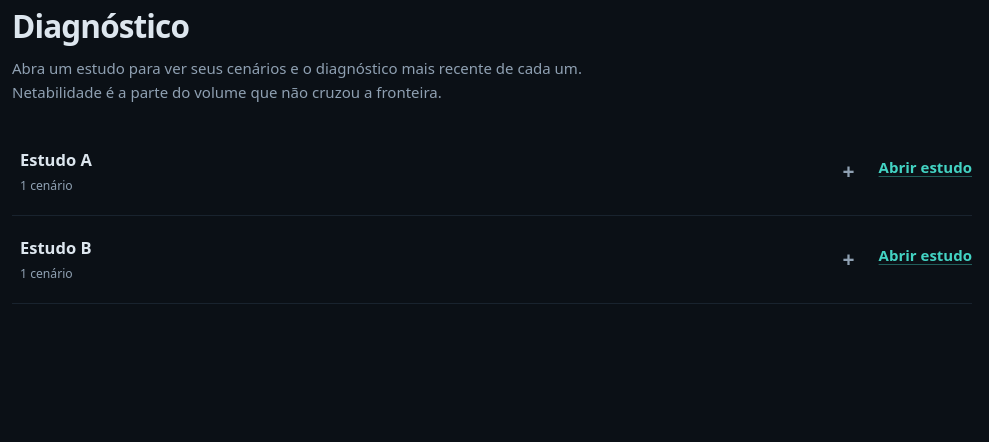
Scenario: DiagnosticsHubPage › só monta os cenários do estudo que o usuário expandiu
Click the button with aria-label "Mostrar diagnósticos de Estudo A".
click(56, 160)  # box [12,140,863,203]
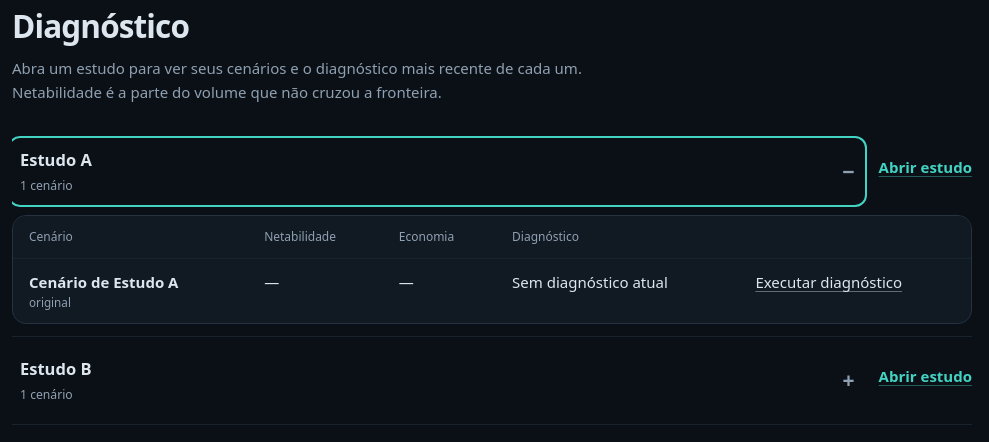
Expected: the element named "Cenários de Estudo A" is shown, [12,215,972,324]
Expected: the column heading "Cenário de Estudo A" is shown, [29,272,178,292]
Expected: the button named "Mostrar diagnósticos de Estudo A" is expanded
Click the button named "Mostrar diagnósticos de Estudo A".
click(56, 160)  # box [12,140,863,203]
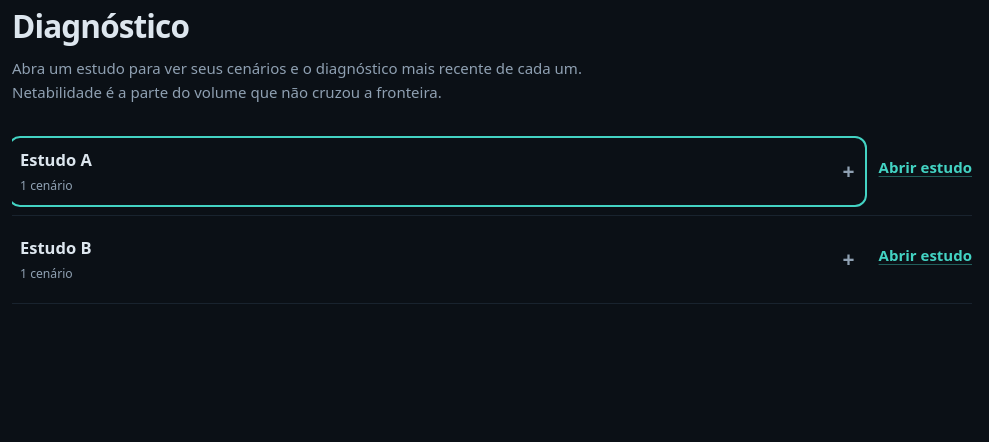
Expected: the button with aria-label "Mostrar diagnósticos de Estudo A" is collapsed, [12,140,863,203]
